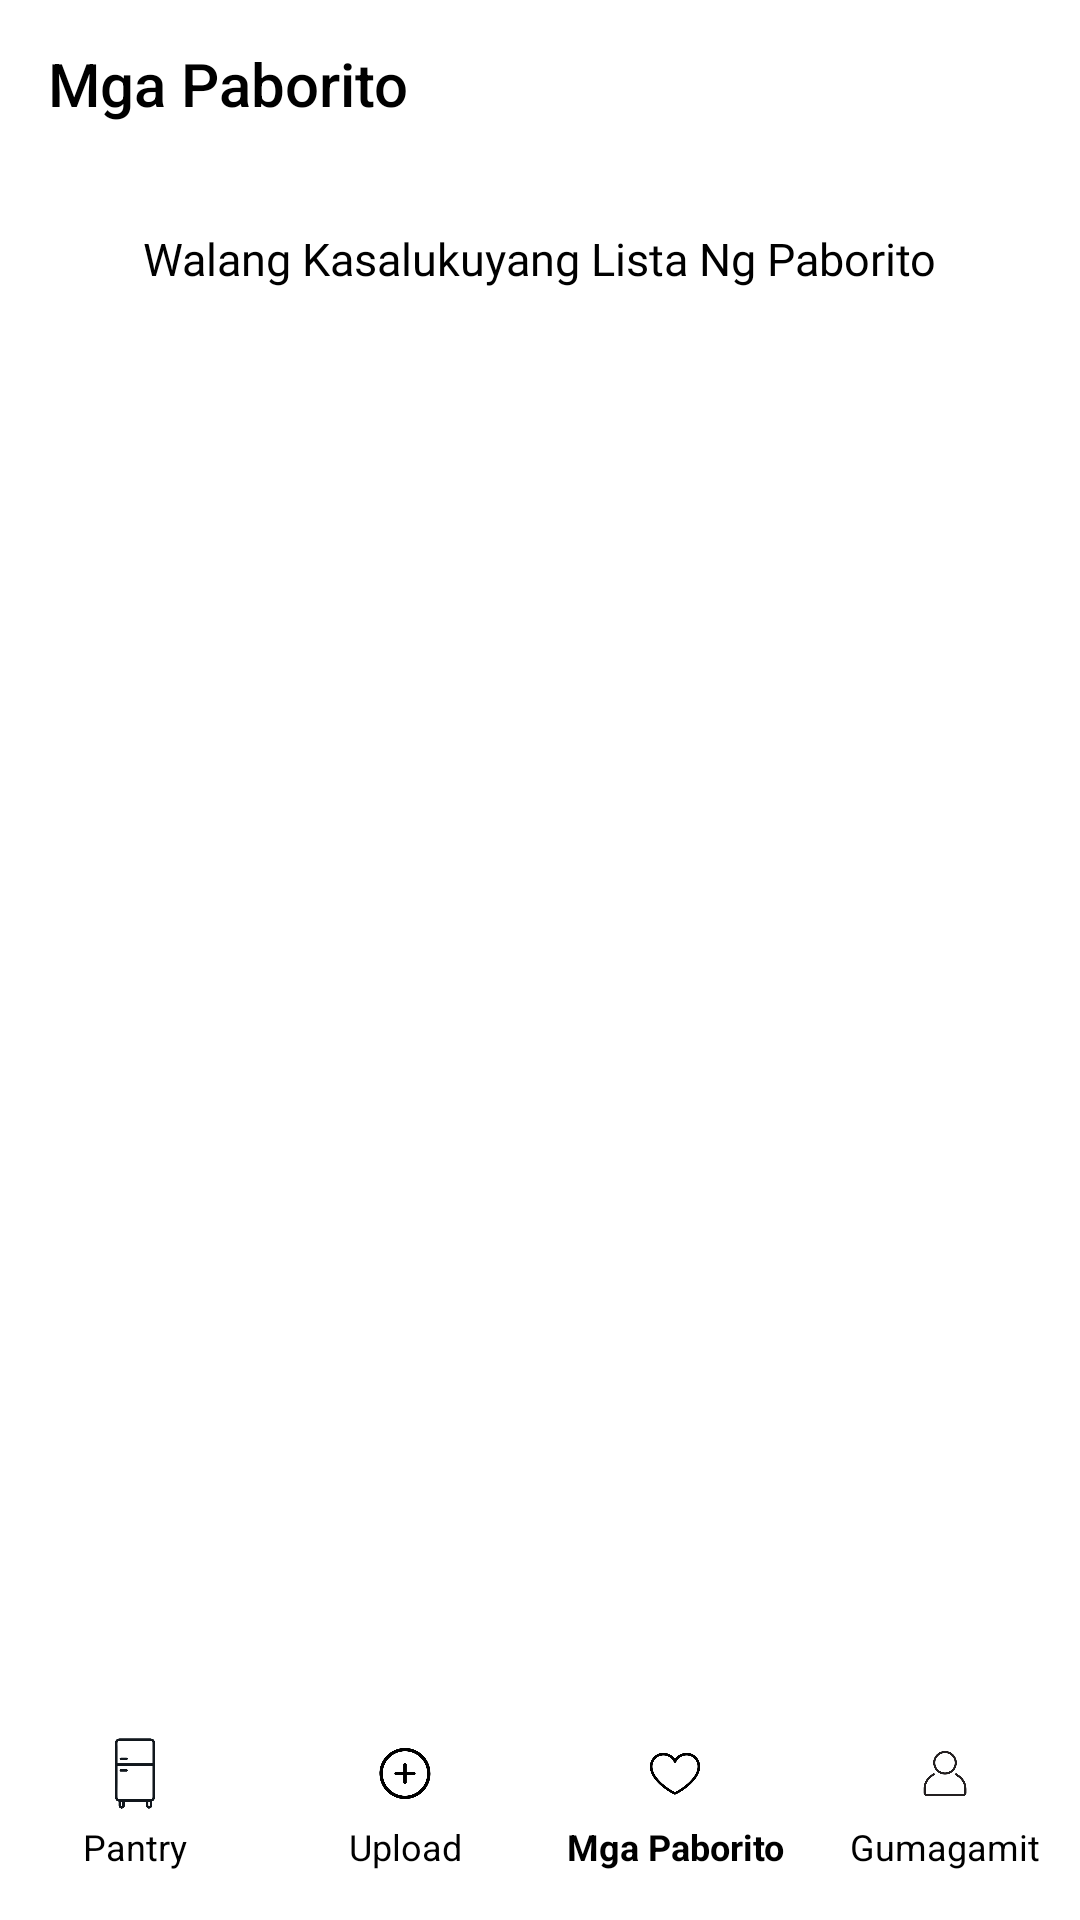

Point at icon controls on the screen. Image size 1080 × 1920, points as (x,y).
acc: (945,1773)
add: (405,1773)
